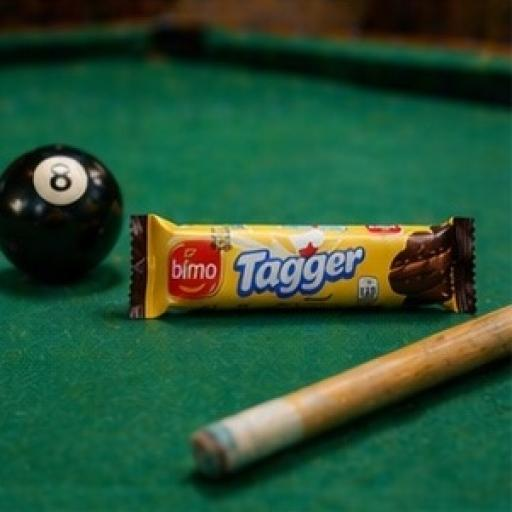tagger: (73, 164, 487, 346)
